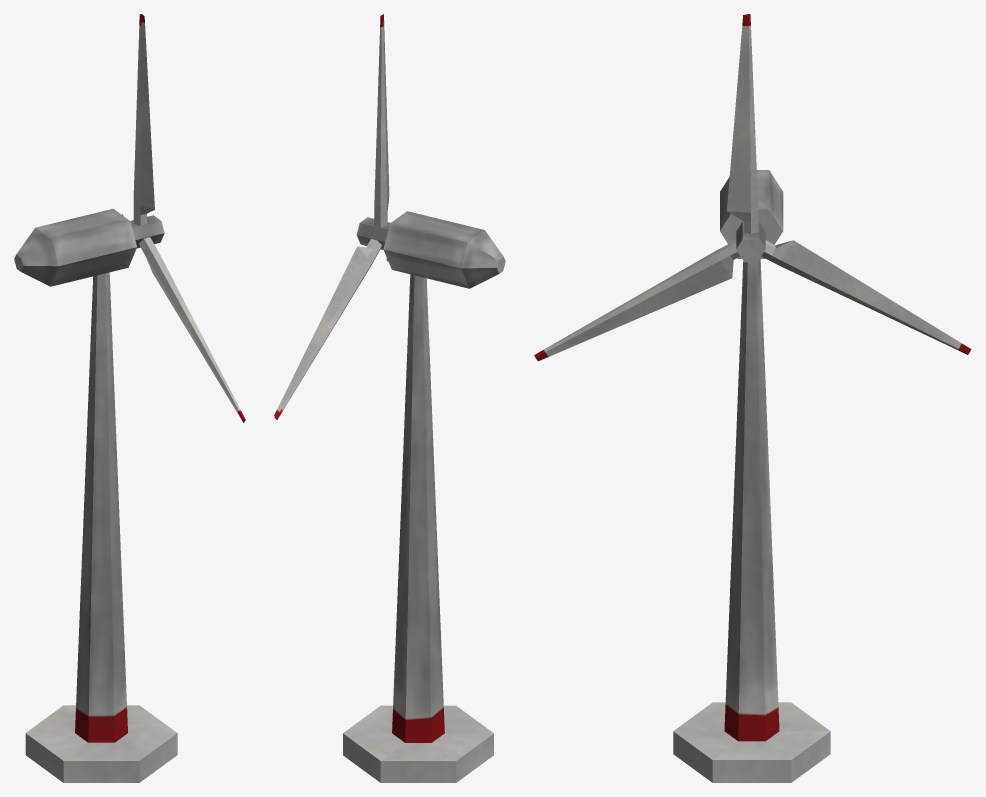
File: torreolica.fbx
The picture shows the model from 3 angles, left to right: view 1: azimuth 30°, elevation 25°; view 2: azimuth 150°, elevation 25°; view 3: azimuth 270°, elevation 25°; orthographic projection. The views are drawn at different scales.
Parts seen in each view (by area): view 1: Cube.002; view 2: Cube.002; view 3: Cube.002.
Boxes of the visible parts, box(x1,y1,x2,y2) form: Cube.002: box(14, 14, 245, 782); Cube.002: box(274, 14, 505, 782); Cube.002: box(534, 14, 971, 782).
Bounding box in the file's own units: 133 × 663 × 346.
